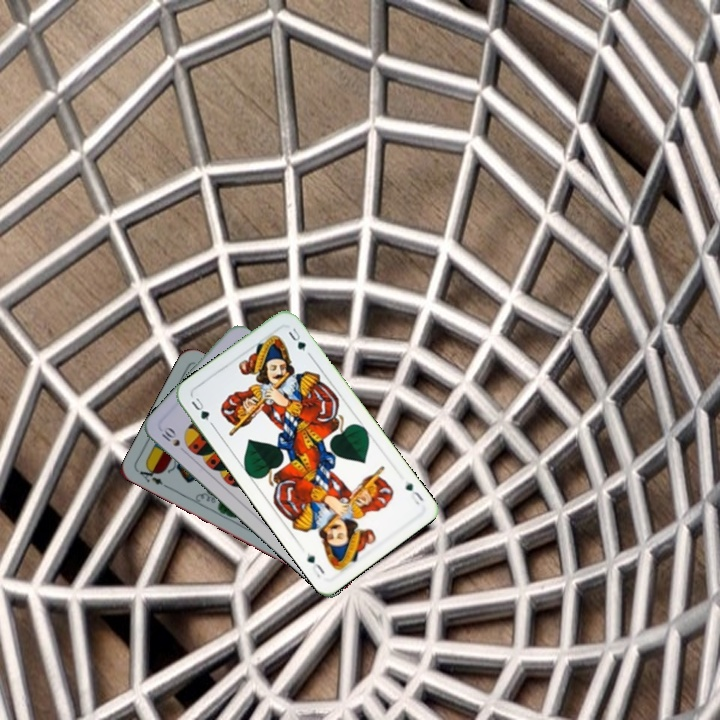EA: (135, 462, 172, 491)
GU: (401, 476, 427, 507), (187, 393, 212, 423)
S10: (156, 422, 190, 455)
